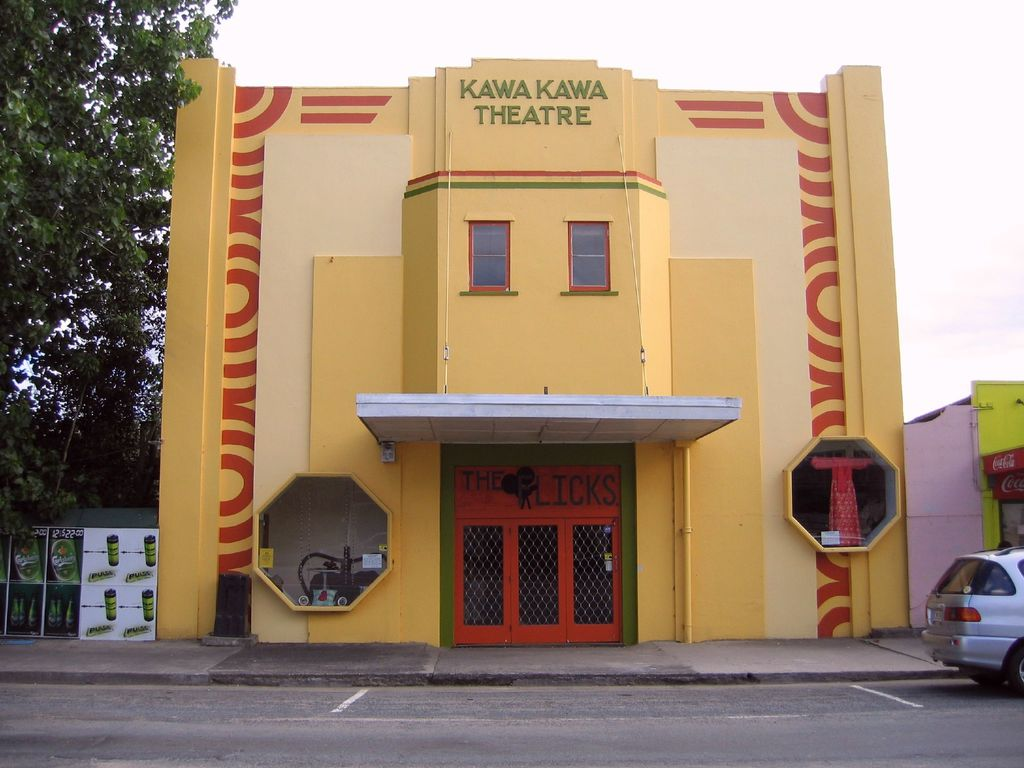Door: (564, 513, 625, 645)
